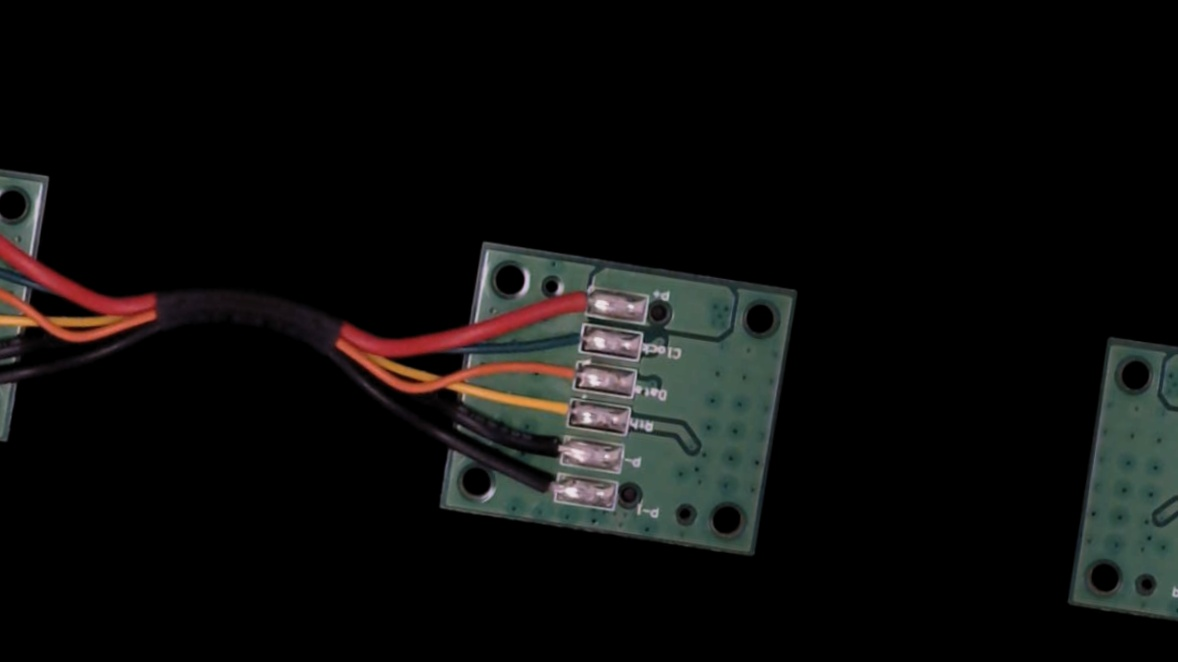Black: (508, 425, 583, 469)
Black1: (504, 470, 575, 509)
Green: (537, 319, 600, 355)
Orange: (520, 353, 595, 395)
Red: (537, 280, 606, 320)
Yellow: (512, 386, 588, 430)
